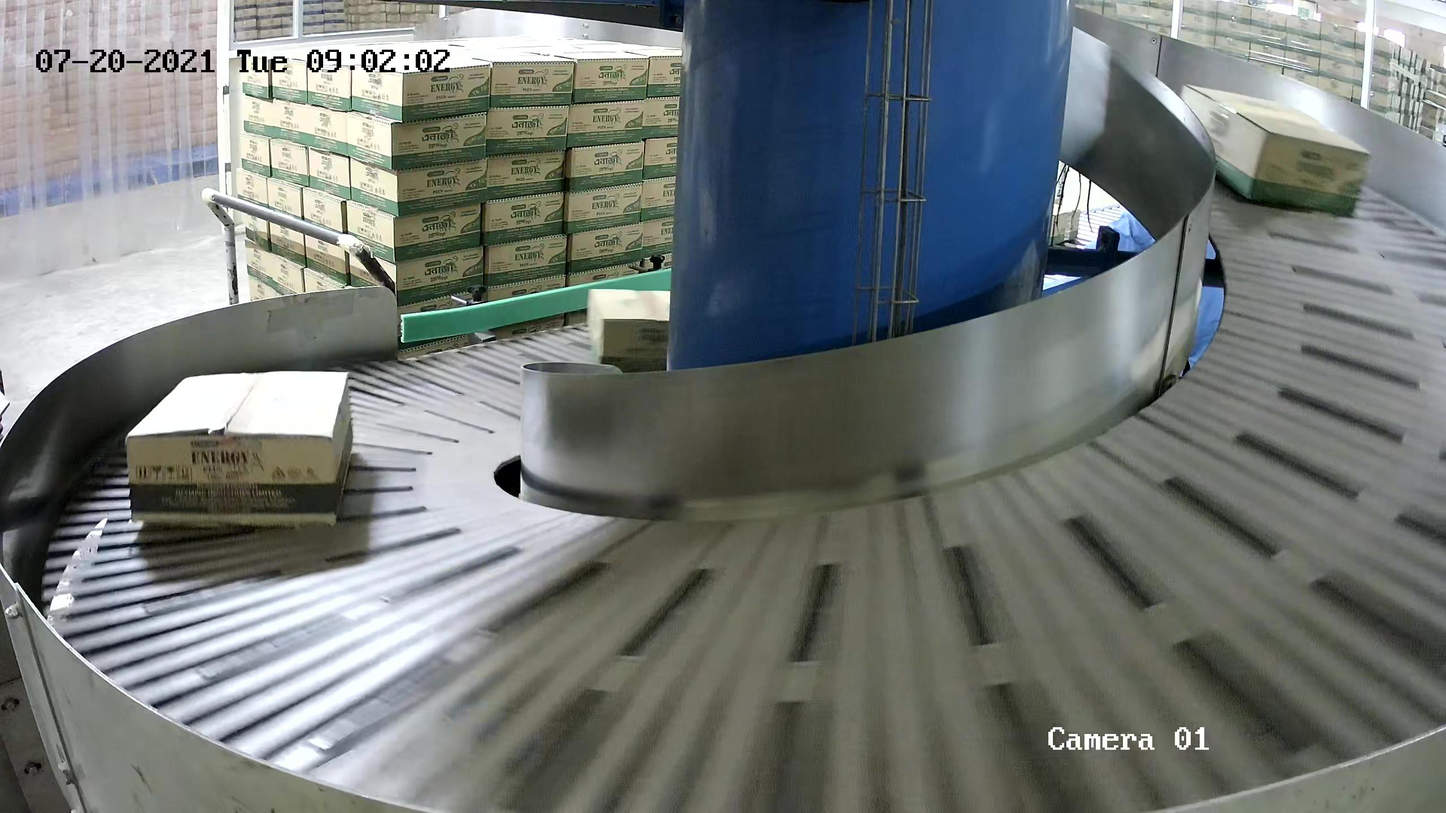Box: (125, 370, 354, 528), (1170, 82, 1381, 220), (587, 288, 706, 377)
